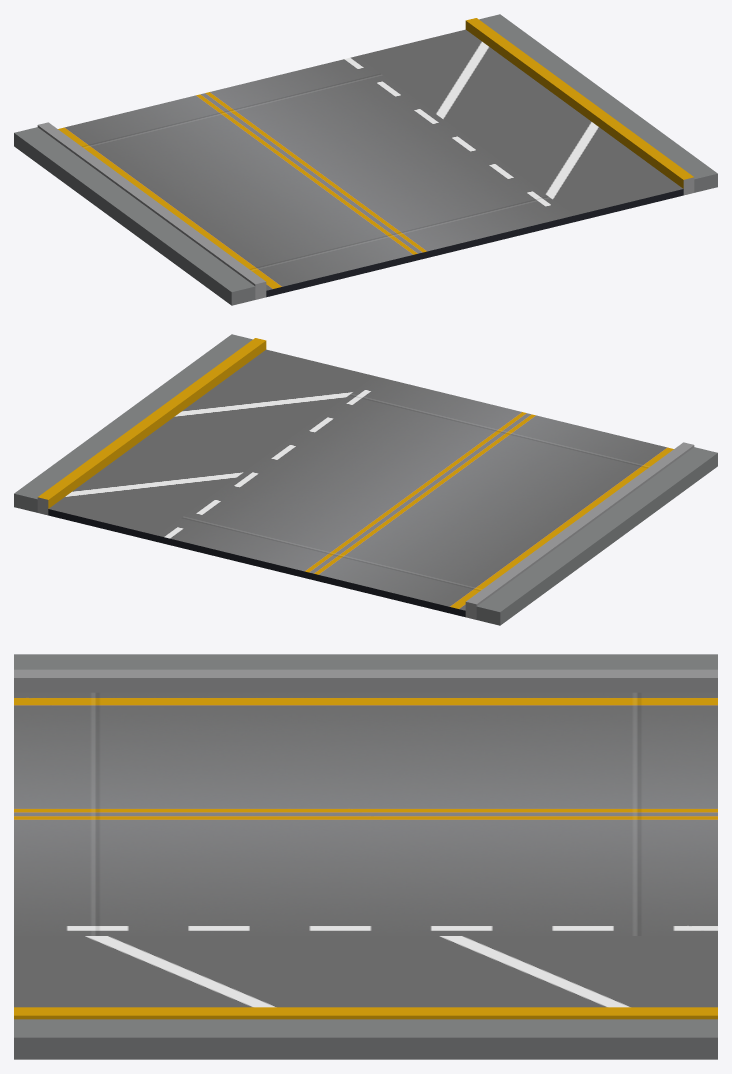
Rendered from Road5_Shoulder2.fbx.
3 renders of one model, top to bottom at view 1: azimuth 30°, elevation 25°; view 2: azimuth 150°, elevation 25°; view 3: azimuth 270°, elevation 25°, orthographic. The views are drawn at different scales.
Visible parts, largest first — view 1: Road5_Shoulder2; view 2: Road5_Shoulder2; view 3: Road5_Shoulder2.
Boxes of the visible parts, x1,y1,x2,y2 form: Road5_Shoulder2: (14, 14, 717, 305); Road5_Shoulder2: (14, 334, 717, 625); Road5_Shoulder2: (14, 654, 717, 1059).
Size of the model in its own units: 15.47 by 0.4753 by 12.
